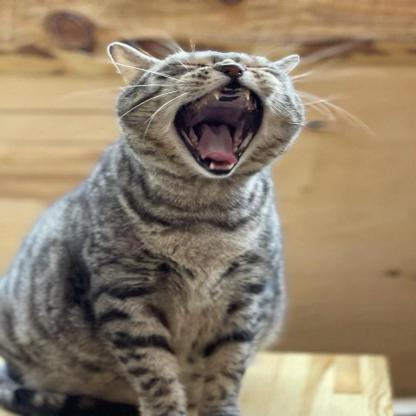cat: (12, 39, 315, 416)
